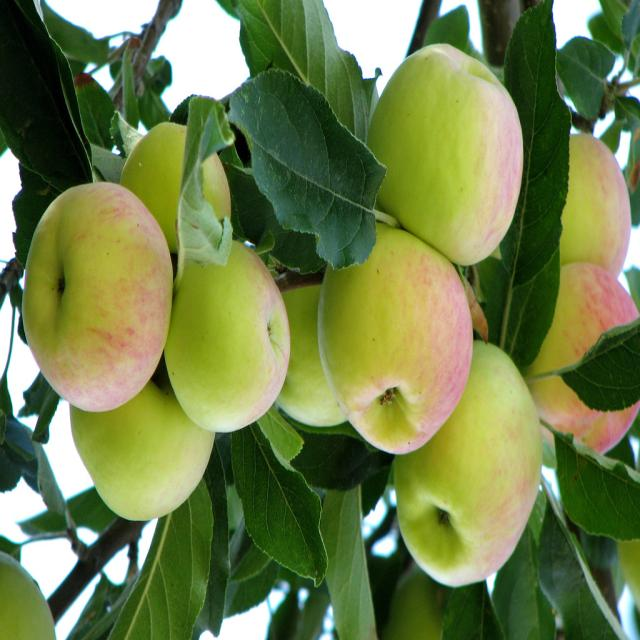Healty Apple: (18, 132, 640, 640), (366, 39, 525, 268), (0, 550, 59, 640)
